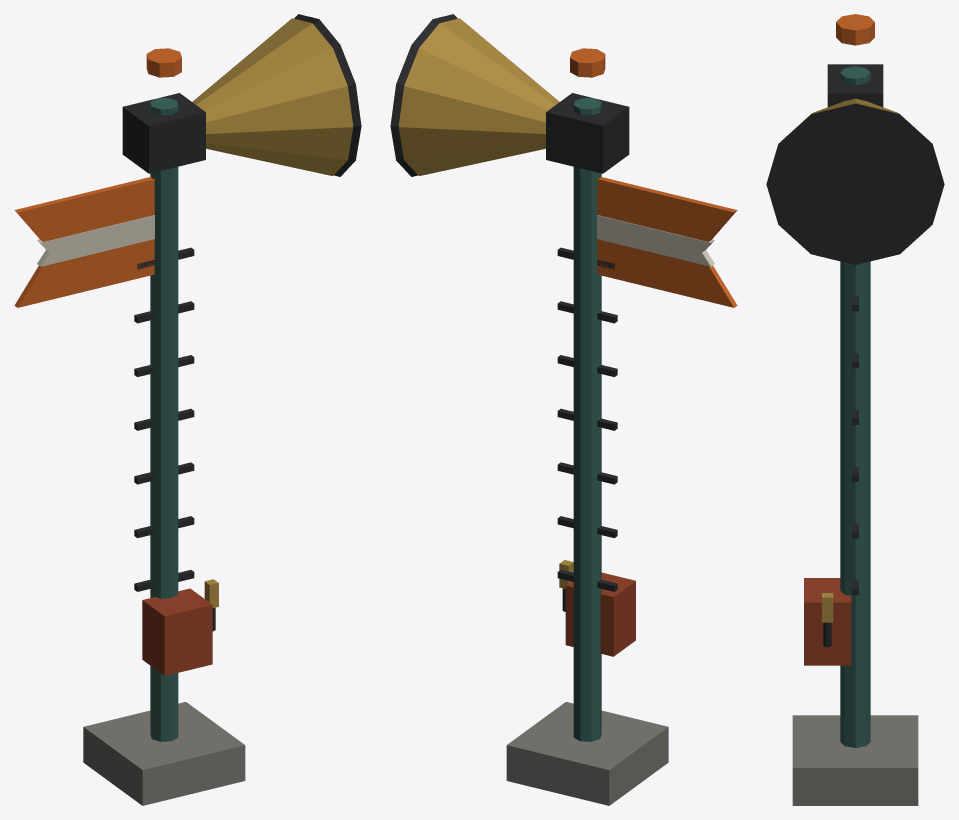
File: poi_siren_mast.glb
The picture shows the model from 3 angles, left to right: view 1: azimuth 30°, elevation 25°; view 2: azimuth 150°, elevation 25°; view 3: azimuth 270°, elevation 25°; orthographic projection. The views are drawn at different scales.
Parts seen in each view (by area): view 1: SirenMast; view 2: SirenMast; view 3: SirenMast.
Part boxes in pixels (left/top/right/bottom): SirenMast: left=14, top=14, right=361, bottom=805; SirenMast: left=390, top=14, right=737, bottom=805; SirenMast: left=766, top=14, right=944, bottom=805.
Size of the model in its own units: 2.66 by 6 by 1.28.
